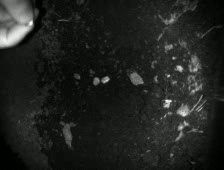corn: (90, 75, 102, 89), (99, 74, 112, 85), (70, 71, 82, 80)
